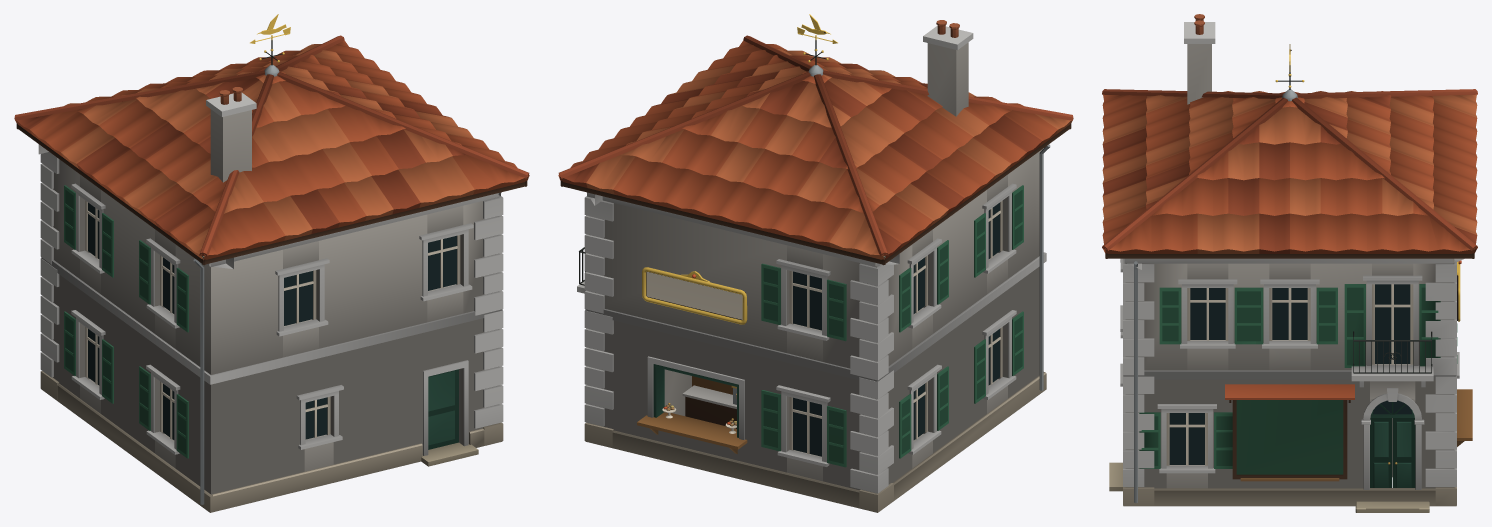
File: pav_cafe.glb
3 views of the same model, side by side, from view 1: azimuth 30°, elevation 25°; view 2: azimuth 150°, elevation 25°; view 3: azimuth 270°, elevation 25° (orthographic).
Visible parts, largest first — view 1: static_cafe; view 2: static_cafe; view 3: static_cafe.
Boxes of the visible parts, box(x1,y1,x2,y2) form: static_cafe: box(14, 35, 529, 512); static_cafe: box(558, 20, 1073, 512); static_cafe: box(1102, 14, 1477, 512).
Bounding box in the file's own units: 9.2 × 10.61 × 9.16.
